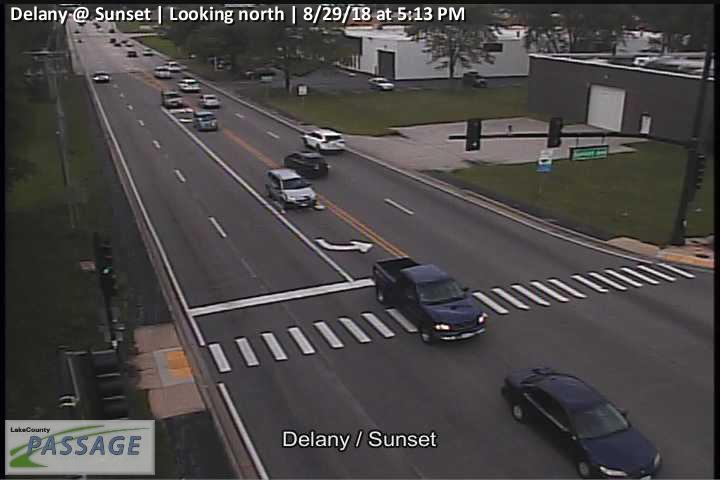SUV: (265, 168, 317, 211), (302, 126, 344, 154), (285, 151, 329, 176), (192, 111, 216, 131), (161, 89, 184, 109), (176, 77, 199, 91), (153, 67, 170, 77)
Sedan: (501, 367, 661, 480), (199, 94, 220, 108), (93, 71, 110, 82), (165, 61, 180, 72), (199, 99, 211, 108)
Truck: (372, 255, 488, 343)
